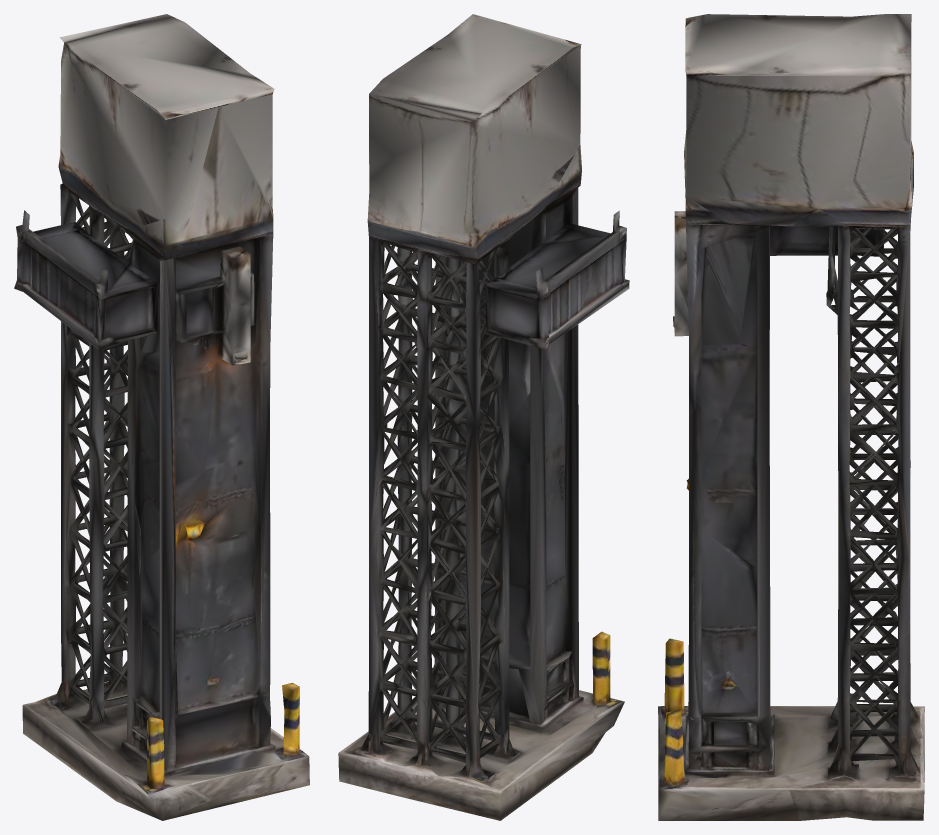
The model's file is portalColumn.glb.
3 views of the same model, side by side, from view 1: azimuth 30°, elevation 25°; view 2: azimuth 150°, elevation 25°; view 3: azimuth 270°, elevation 25° (orthographic). The views are drawn at different scales.
Parts seen in each view (by area): view 1: portalColumn; view 2: portalColumn; view 3: portalColumn.
Boxes of the visible parts, left/top/right/bottom form: portalColumn: left=14, top=14, right=309, bottom=820; portalColumn: left=338, top=14, right=629, bottom=820; portalColumn: left=658, top=14, right=924, bottom=820.
Bounding box in the file's own units: 6.3 × 22 × 7.2.
Materials: 1 (1 with a texture image).
